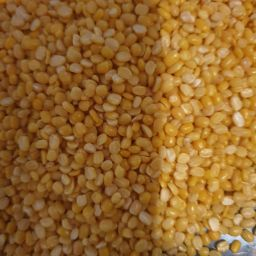Red Split Lentils(malka masar): (19, 7, 256, 253), (59, 34, 256, 256), (4, 51, 256, 206), (25, 21, 156, 256)
